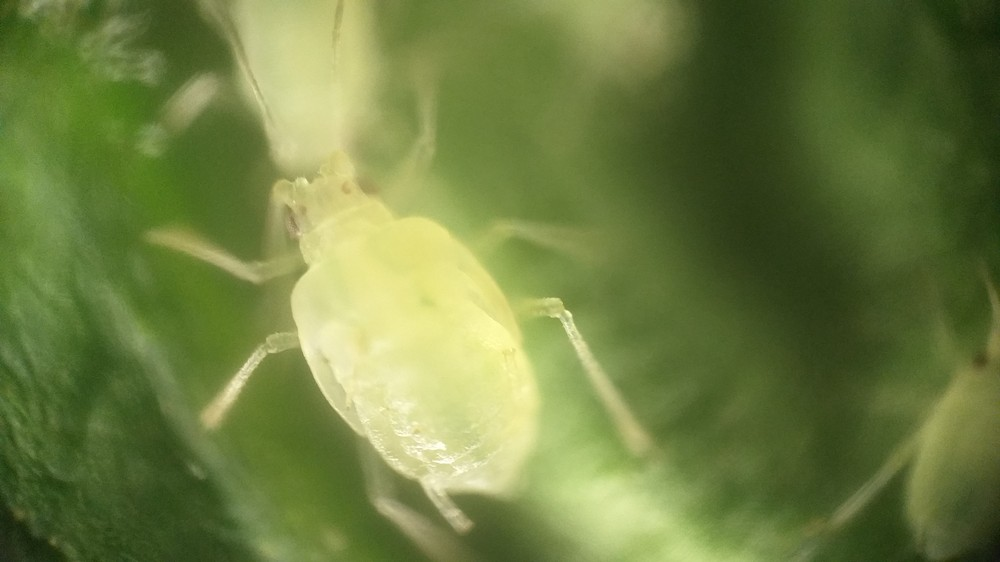Pulgon: (175, 95, 678, 555)
